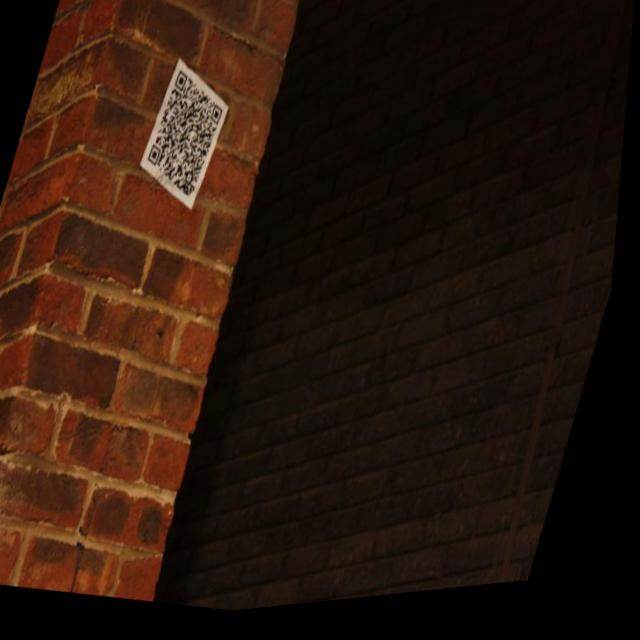qrcode: (142, 69, 235, 208)
